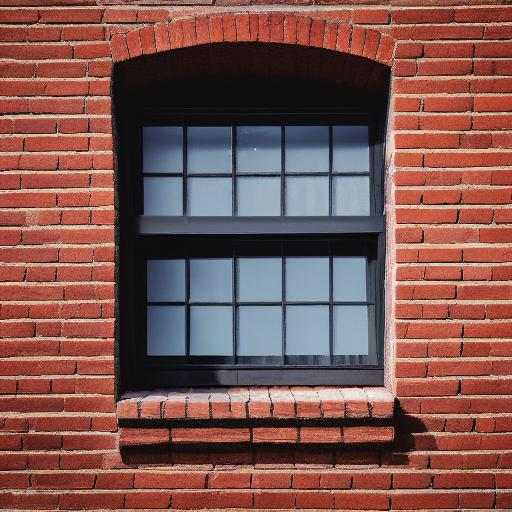Window: (101, 13, 401, 454)
